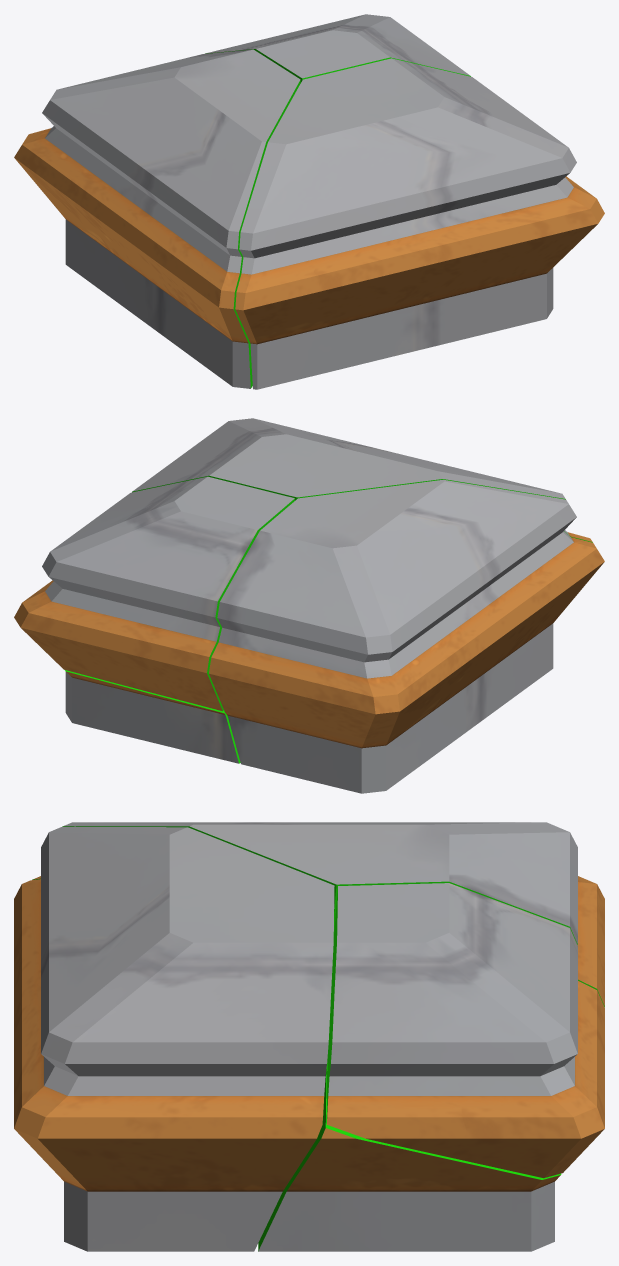
The model's file is SM_Column_Top_Broken.fbx.
3 views of the same model, one above another, from view 1: azimuth 30°, elevation 25°; view 2: azimuth 150°, elevation 25°; view 3: azimuth 270°, elevation 25° (orthographic). The views are drawn at different scales.
Visible parts, largest first — view 1: SM_Column_Top_Broken_01, SM_Column_Top_Broken, SM_Column_Top_Broken_03; view 2: SM_Column_Top_Broken, SM_Column_Top_Broken_03, SM_Column_Top_Broken_01, SM_Column_Top_Broken_02; view 3: SM_Column_Top_Broken_01, SM_Column_Top_Broken_03, SM_Column_Top_Broken_02, SM_Column_Top_Broken.
Boxes of the visible parts, <box> form: SM_Column_Top_Broken_01: <box>235,58,604,389</box>; SM_Column_Top_Broken: <box>14,49,300,388</box>; SM_Column_Top_Broken_03: <box>205,14,470,82</box>; SM_Column_Top_Broken: <box>209,479,604,793</box>; SM_Column_Top_Broken_03: <box>14,476,294,711</box>; SM_Column_Top_Broken_01: <box>132,418,592,542</box>; SM_Column_Top_Broken_02: <box>65,670,240,763</box>; SM_Column_Top_Broken_01: <box>14,827,334,1251</box>; SM_Column_Top_Broken_03: <box>326,883,604,1178</box>; SM_Column_Top_Broken_02: <box>258,1063,561,1251</box>; SM_Column_Top_Broken: <box>32,822,604,1006</box>.
Bounding box in the file's own units: 0.3259 × 0.1608 × 0.3259.
